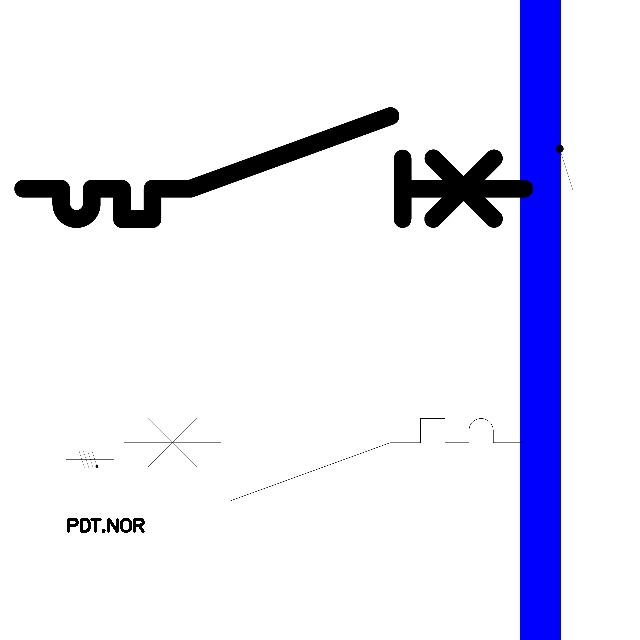interruptor_termomagnetico: (10, 103, 537, 232), (113, 408, 534, 511)
